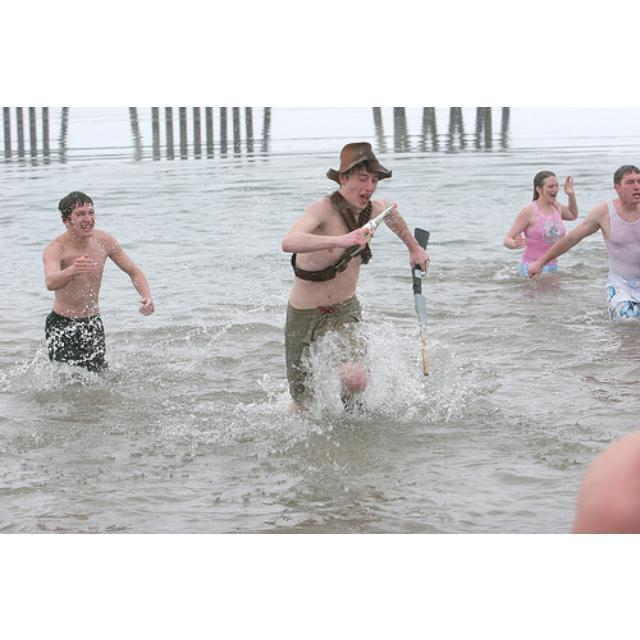human: (277, 144, 424, 411), (43, 193, 156, 369), (532, 163, 639, 319), (503, 170, 579, 274)
